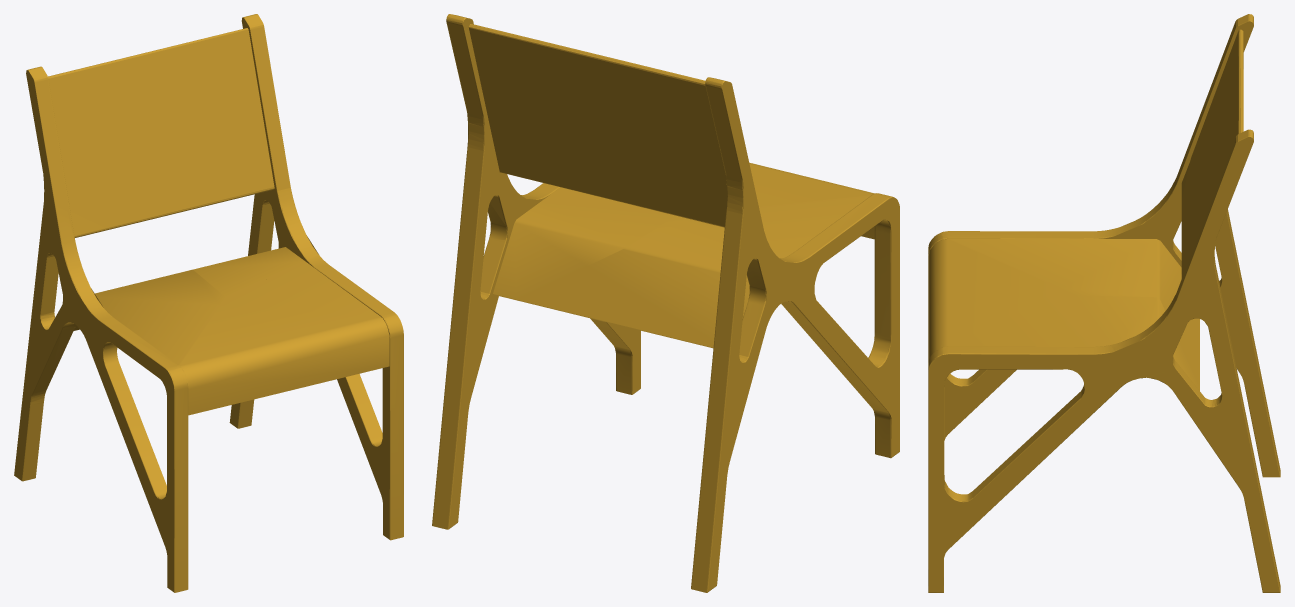
The model's file is MoseSnacks_chair.FBX.
3 views of the same model, side by side, from view 1: azimuth 30°, elevation 25°; view 2: azimuth 150°, elevation 25°; view 3: azimuth 270°, elevation 25° (orthographic). The views are drawn at different scales.
Parts seen in each view (by area): view 1: fdf03, fdf01, fdf05, fdf02, fdf04; view 2: fdf05, fdf03, fdf02, fdf01, fdf04; view 3: fdf01, fdf05, fdf02, fdf03, fdf04.
Part boxes in pixels (x1=…): fdf03: x1=48, y1=28, x2=274, y2=229; fdf01: x1=161, y1=254, x2=403, y2=592; fdf05: x1=14, y1=196, x2=225, y2=535; fdf02: x1=26, y1=14, x2=318, y2=296; fdf04: x1=229, y1=399, x2=254, y2=428; fdf05: x1=516, y1=194, x2=896, y2=592; fdf03: x1=468, y1=24, x2=726, y2=220; fdf02: x1=446, y1=14, x2=756, y2=333; fdf01: x1=491, y1=162, x2=899, y2=458; fdf04: x1=432, y1=310, x2=491, y2=529; fdf01: x1=928, y1=235, x2=1223, y2=592; fdf05: x1=935, y1=142, x2=1280, y2=477; fdf02: x1=1076, y1=14, x2=1253, y2=431; fdf03: x1=1181, y1=29, x2=1243, y2=278; fdf04: x1=1219, y1=415, x2=1280, y2=592.
Size of the model in its own units: 14.86 by 25.71 by 17.98.
